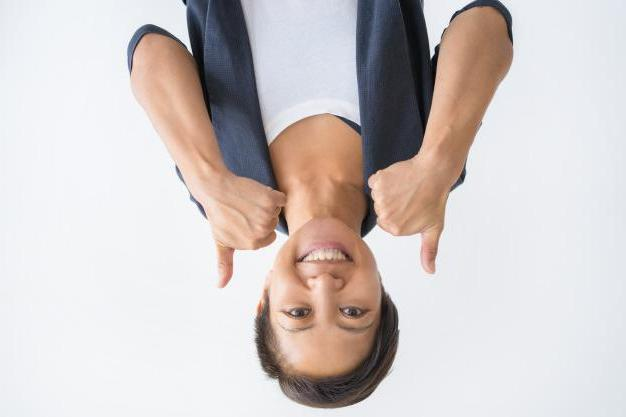thumbsdown: (367, 171, 438, 275), (216, 191, 288, 289)
